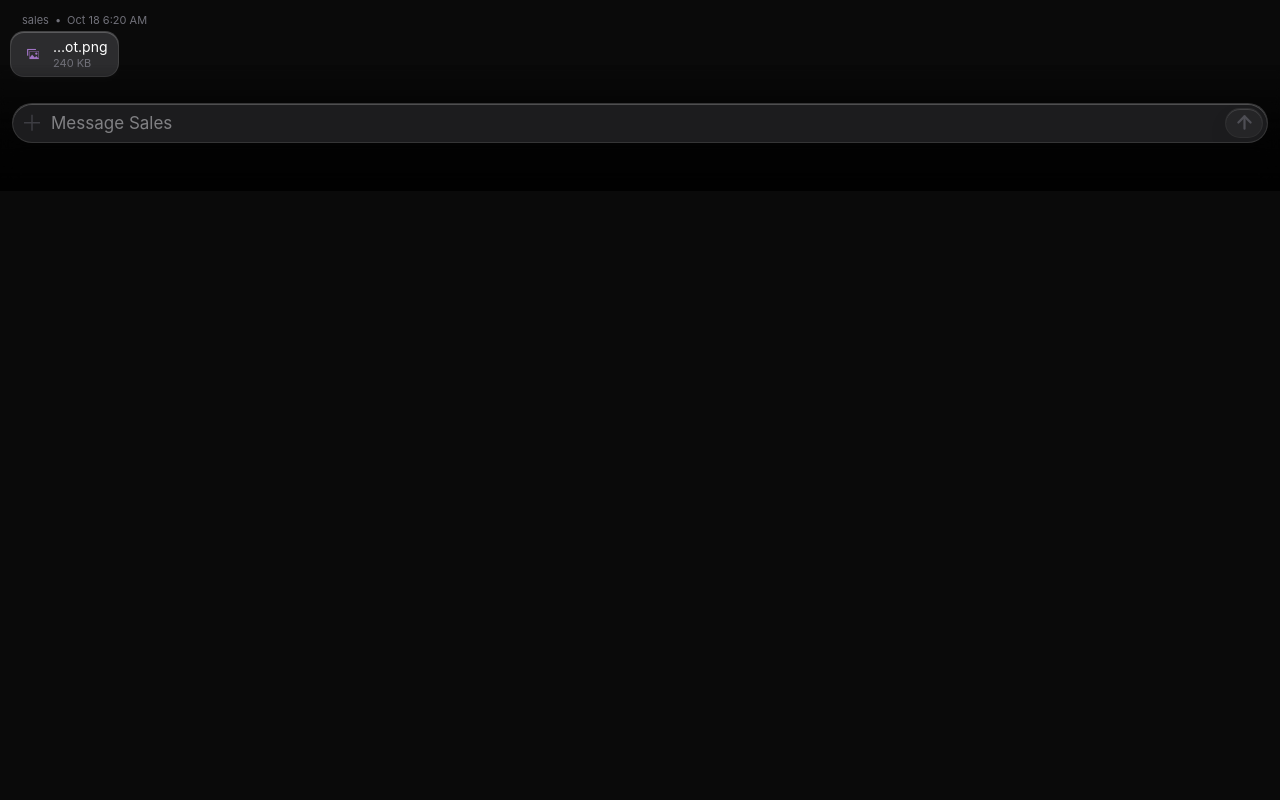
Scenario: open › image: preview bytes paint in the file viewer's ImageView
Click the button with test id "thread-file": [64, 54] box left=10, top=30, right=118, bottom=76
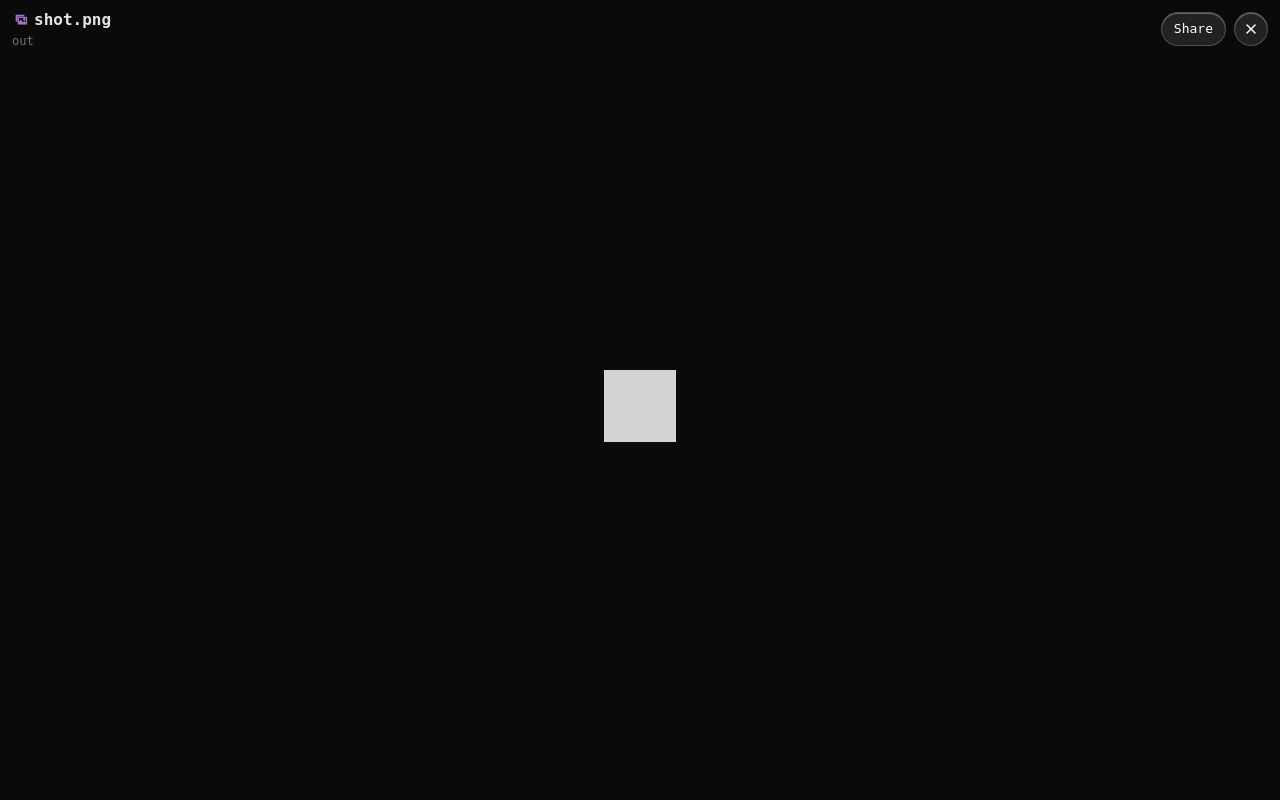
Expected: the button with test id "attachment-share" is shown, left=1161, top=12, right=1226, bottom=46
